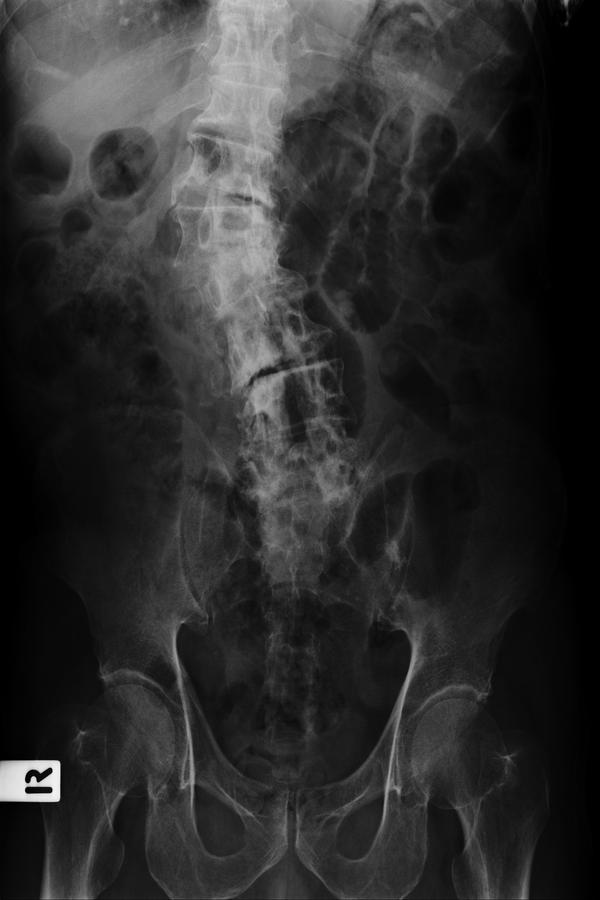lumbar scoliosis: (175, 7, 360, 575)
